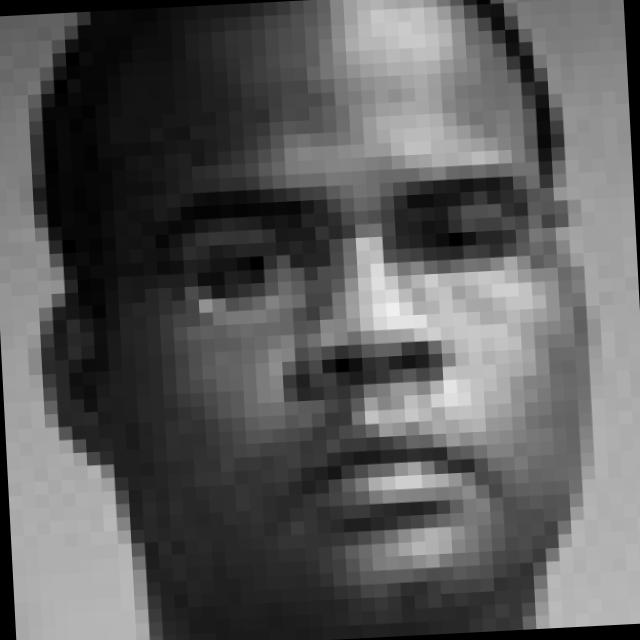neutral: (138, 160, 546, 551)
